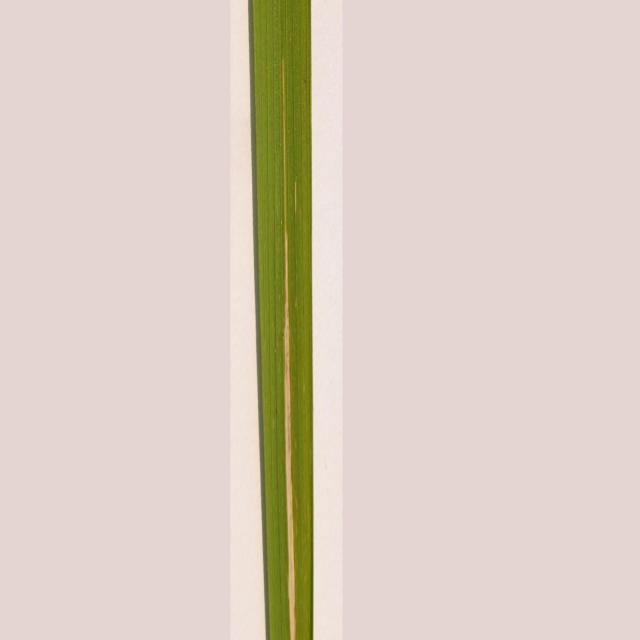Bacterial leaf blight: (228, 0, 342, 640)
